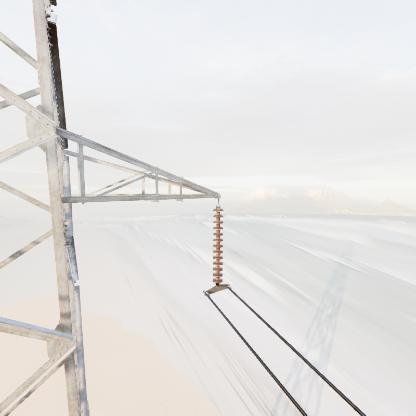insulator: (207, 202, 228, 290)
